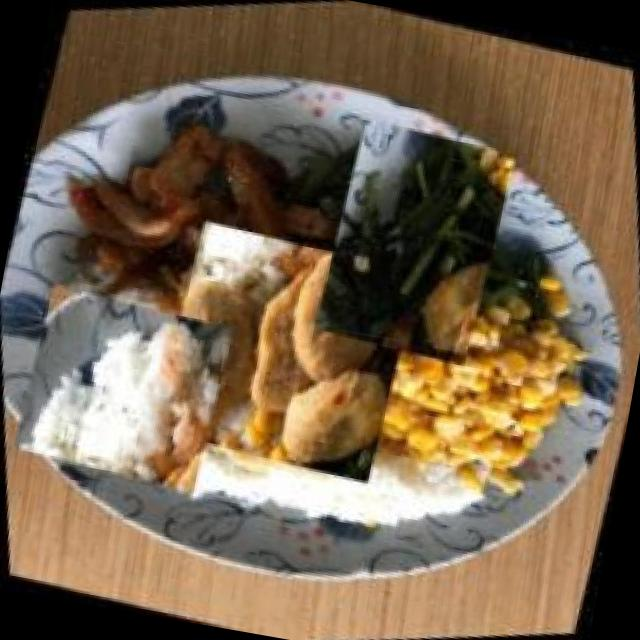chicken_nuggets: (98, 166, 470, 537)
rice: (0, 236, 271, 537)
water_spinach: (256, 81, 572, 397)
